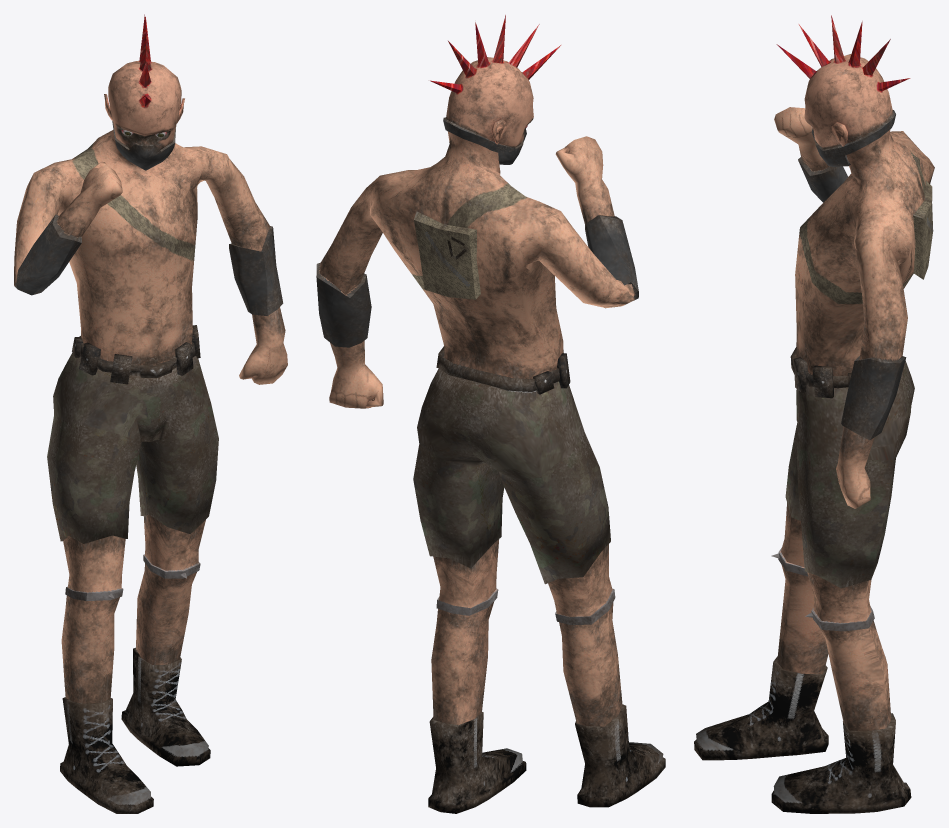
File: Anim_perder_1_npc2.0049.obj
3 renders of one model, left to right at view 1: azimuth 30°, elevation 25°; view 2: azimuth 150°, elevation 25°; view 3: azimuth 270°, elevation 25°, orthographic. The views are drawn at different scales.
Parts seen in each view (by area): view 1: polySurface1; view 2: polySurface1; view 3: polySurface1.
Boxes of the visible parts, box(x1,y1,x2,y2) form: polySurface1: box(14, 14, 287, 813); polySurface1: box(316, 15, 665, 813); polySurface1: box(694, 15, 934, 813).
Size of the model in its own units: 4.02 by 10.01 by 2.81.
2 materials, 2 textured.
